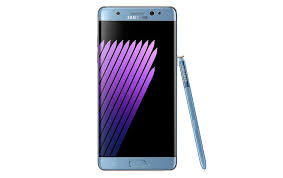samsung: (93, 5, 180, 172)
